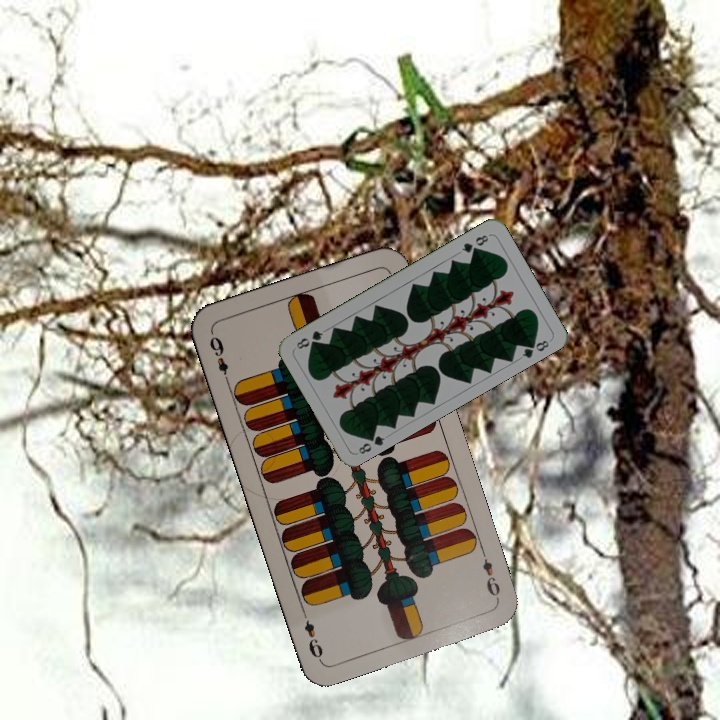E9: (205, 329, 232, 387), (477, 545, 503, 603)
G8: (354, 428, 388, 457), (457, 231, 491, 256)
